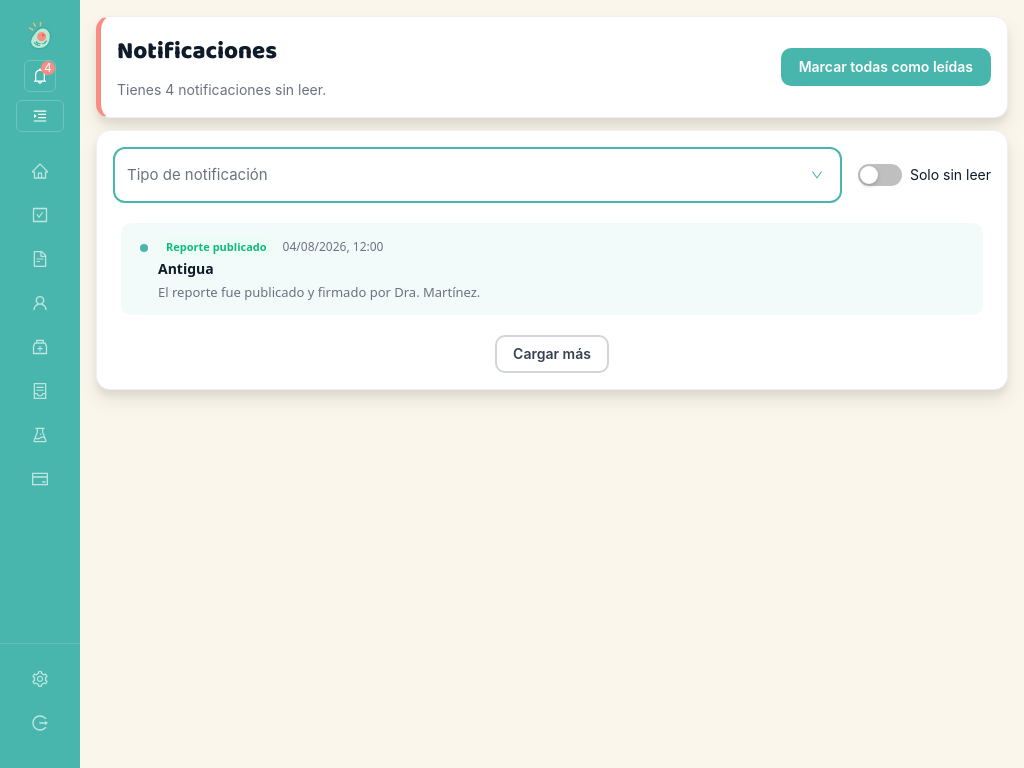
Test: filters › clears accumulated items and the cursor when a filter changes
This screenshot has width=1024, height=768.
Expected: the text "Antigua" is shown, x1=158 y1=259 x2=214 y2=278
Click the switch named "Solo sin leer": (880, 175) x1=858 y1=164 x2=902 y2=186
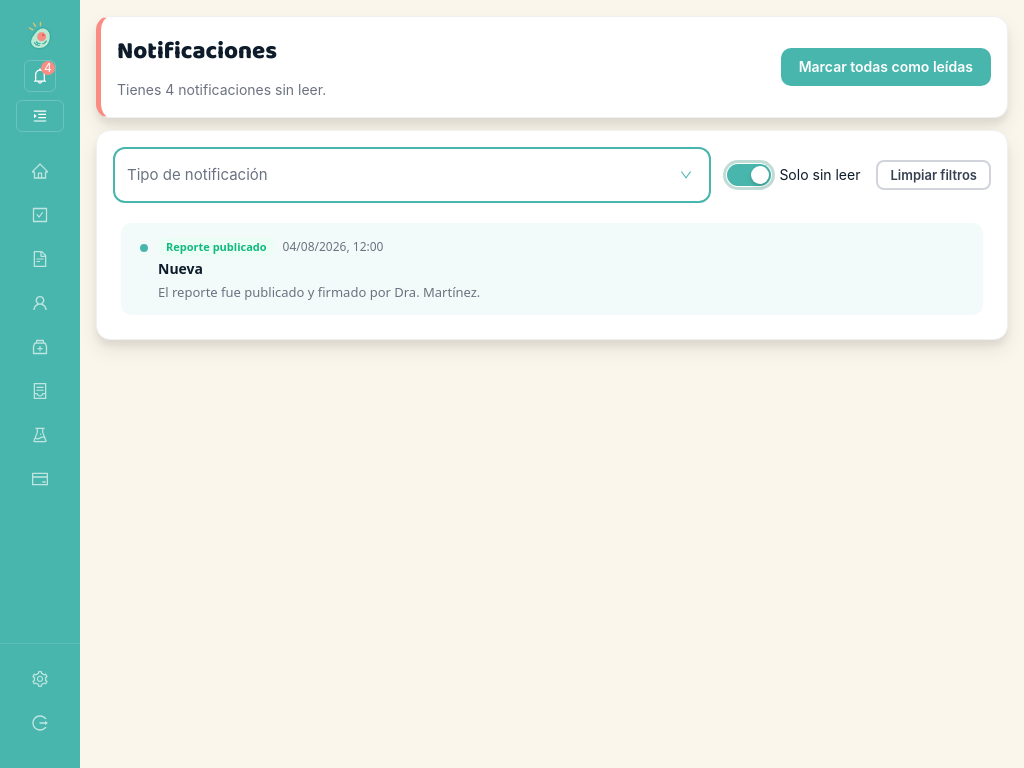
Result: the text "Nueva" is shown at x1=158 y1=259 x2=203 y2=278
Result: the button "Antigua" is gone
